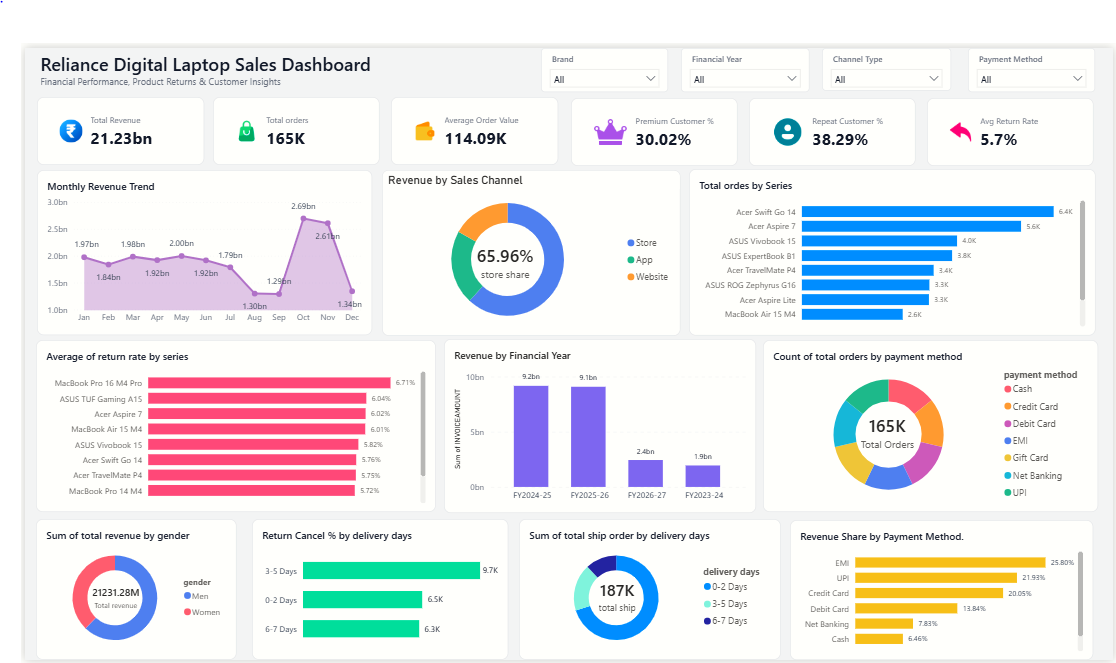

What the dashboard file says about the page in this screenshot:
{"tool":"powerbi","page":{"name":"Page 1","canvas":[1600,900],"ordinal":0},"visuals":[{"type":"textbox","box":[18.1,0,631.9,65.3],"z":0},{"type":"slicer","fields":{"Values":["01_Revenue_Financial_Year.financial year "]},"box":[965.1,0,188.9,65.1],"z":1000},{"type":"slicer","fields":{"Values":["03_Sales_Channel.channel type"]},"box":[1171.4,0,190.5,63.5],"z":2000},{"type":"slicer","fields":{"Values":["08_Payment_Analysis.payment method"]},"box":[1386.5,0,187.2,65],"z":3000},{"type":"slicer","fields":{"Values":["orders.BRAND"]},"box":[758.7,0,187.3,65.1],"z":4000},{"type":"cardVisual","fields":{"Data":["01_Revenue_Financial_Year.Total Revenue"]},"box":[16.9,72.3,246.2,100],"z":5000},{"type":"cardVisual","fields":{"Data":["03_Sales_Channel.total orders"]},"box":[276.9,72.3,244.6,100],"z":6000},{"type":"cardVisual","fields":{"Data":["orders.Average Order Value"]},"box":[538.5,72.3,246.2,100],"z":7000},{"type":"cardVisual","fields":{"Data":["02_Product_Return_Rate.Avg Return Rate"]},"box":[1326.2,73.8,244.6,100],"z":8000},{"type":"cardVisual","fields":{"Data":["06_Customer_Analysis.Repeat Customer %"]},"box":[1064.6,73.8,244.6,100],"z":9000},{"type":"cardVisual","fields":{"Data":["06_Customer_Analysis.Premium Customer %"]},"box":[803.1,73.8,244.6,100],"z":10000},{"type":"areaChart","title":"Monthly Revenue Trend","fields":{"Y":["Sum(orders.INVOICEAMOUNT)"],"Category":["orders.month short"]},"box":[17.5,179.4,492.8,243.3],"z":11000},{"type":"clusteredBarChart","title":"Total ordes by Series","fields":{"Category":["orders.SERIES"],"Y":["CountNonNull(orders.SRC_ID)"]},"box":[976.1,178.3,597.8,244.6],"z":12000},{"type":"donutChart","title":" Revenue by Sales Channel","fields":{"Category":["orders.CHANNELTYPE"],"Y":["Sum(orders.INVOICEAMOUNT)"]},"box":[525.7,178.9,439.4,244],"z":12000,"group":"g4"},{"type":"clusteredColumnChart","title":"Revenue by Financial Year","fields":{"Category":["orders.FINANCIALYEAR"],"Y":["Sum(orders.INVOICEAMOUNT)"]},"box":[615.9,428.6,458.7,255.6],"z":13000},{"type":"clusteredBarChart","fields":{"Category":["02_Product_Return_Rate.series"],"Y":["Avg(02_Product_Return_Rate.return rate)"]},"box":[16.7,430,588.3,253.3],"z":14000},{"type":"clusteredBarChart","title":"Return Cancel % by delivery days","fields":{"Category":["04_Delivery_Analysis.delivery days"],"Y":["Sum(04_Delivery_Analysis.return or cancel order)"]},"box":[333.3,693.3,376.7,206.7],"z":15000},{"type":"donutChart","fields":{"Category":["08_Payment_Analysis.payment method"],"Y":["CountNonNull(08_Payment_Analysis.total orders)"]},"box":[1085,430,493.3,253.3],"z":16000,"group":"g3"},{"type":"clusteredBarChart","title":"Revenue Share by Payment Method.","fields":{"Y":["Max(08_Payment_Analysis.revenue share)"],"Category":["08_Payment_Analysis.payment method"]},"box":[1124.6,693.8,446.2,206.2],"z":16000},{"type":"group","id":"g1","title":"Group 1","box":[20,690.8,301.4,207.2],"z":17000},{"type":"donutChart","fields":{"Category":["07_Gender_Revenue.gender"],"Y":["Sum(07_Gender_Revenue.total revenue)"]},"box":[20,690.8,301.4,207.2],"z":17000,"group":"g1"},{"type":"group","id":"g2","title":"Group 2","box":[726.7,693.3,385,206.7],"z":18000},{"type":"group","id":"g3","title":"Group 3","box":[1085,430,493.3,253.3],"z":19000},{"type":"donutChart","fields":{"Category":["04_Delivery_Analysis.delivery days"],"Y":["Sum(04_Delivery_Analysis.total ship order )"]},"box":[726.7,693.3,385,206.7],"z":19000,"group":"g2"},{"type":"group","id":"g4","title":"Group 4","box":[525.7,178.9,439.4,244],"z":20000},{"type":"cardVisual","fields":{"Data":["01_Revenue_Financial_Year.Gender Total Revenue"]},"box":[38.8,764.1,196.8,110.9],"z":20000,"group":"g1"},{"type":"cardVisual","fields":{"Data":["Sum(04_Delivery_Analysis.total ship order )"]},"box":[777.7,752.6,186.8,147.4],"z":21000,"group":"g2"},{"type":"cardVisual","fields":{"Data":["01_Revenue_Financial_Year.Total Revenue"]},"box":[625,250,170,113],"z":22001,"group":"g5"},{"type":"cardVisual","fields":{"Data":["Sum(08_Payment_Analysis.total orders)"]},"box":[1188.3,510,160,111.7],"z":22001,"group":"g3"},{"type":"group","id":"g5","title":"Group 3","box":[625,250,170,113],"z":22005,"group":"g4"}]}

Visuals, with their boxes on the page's 1600x900 design canvas (x1, y1, x2, y2). These are canvas units, not pixel positions in the 1116x663 screenshot, which may show the page scaled, cropped or inside an application window:
textbox: 18/0/650/65
slicer - 01_Revenue_Financial_Year.financial year : 965/0/1154/65
slicer - 03_Sales_Channel.channel type: 1171/0/1362/64
slicer - 08_Payment_Analysis.payment method: 1386/0/1574/65
slicer - orders.BRAND: 759/0/946/65
cardVisual - 01_Revenue_Financial_Year.Total Revenue: 17/72/263/172
cardVisual - 03_Sales_Channel.total orders: 277/72/522/172
cardVisual - orders.Average Order Value: 538/72/785/172
cardVisual - 02_Product_Return_Rate.Avg Return Rate: 1326/74/1571/174
cardVisual - 06_Customer_Analysis.Repeat Customer %: 1065/74/1309/174
cardVisual - 06_Customer_Analysis.Premium Customer %: 803/74/1048/174
"Monthly Revenue Trend" areaChart: 18/179/510/423
"Total ordes by Series" clusteredBarChart: 976/178/1574/423
" Revenue by Sales Channel" donutChart: 526/179/965/423
"Revenue by Financial Year" clusteredColumnChart: 616/429/1075/684
clusteredBarChart - 02_Product_Return_Rate.series x Avg(02_Product_Return_Rate.return rate): 17/430/605/683
"Return Cancel % by delivery days" clusteredBarChart: 333/693/710/900
donutChart - 08_Payment_Analysis.payment method x CountNonNull(08_Payment_Analysis.total orders): 1085/430/1578/683
"Revenue Share by Payment Method." clusteredBarChart: 1125/694/1571/900
"Group 1" group: 20/691/321/898
donutChart - 07_Gender_Revenue.gender x Sum(07_Gender_Revenue.total revenue): 20/691/321/898
"Group 2" group: 727/693/1112/900
"Group 3" group: 1085/430/1578/683
donutChart - 04_Delivery_Analysis.delivery days x Sum(04_Delivery_Analysis.total ship order ): 727/693/1112/900
"Group 4" group: 526/179/965/423
cardVisual - 01_Revenue_Financial_Year.Gender Total Revenue: 39/764/236/875
cardVisual - Sum(04_Delivery_Analysis.total ship order ): 778/753/964/900
cardVisual - 01_Revenue_Financial_Year.Total Revenue: 625/250/795/363
cardVisual - Sum(08_Payment_Analysis.total orders): 1188/510/1348/622
"Group 3" group: 625/250/795/363
